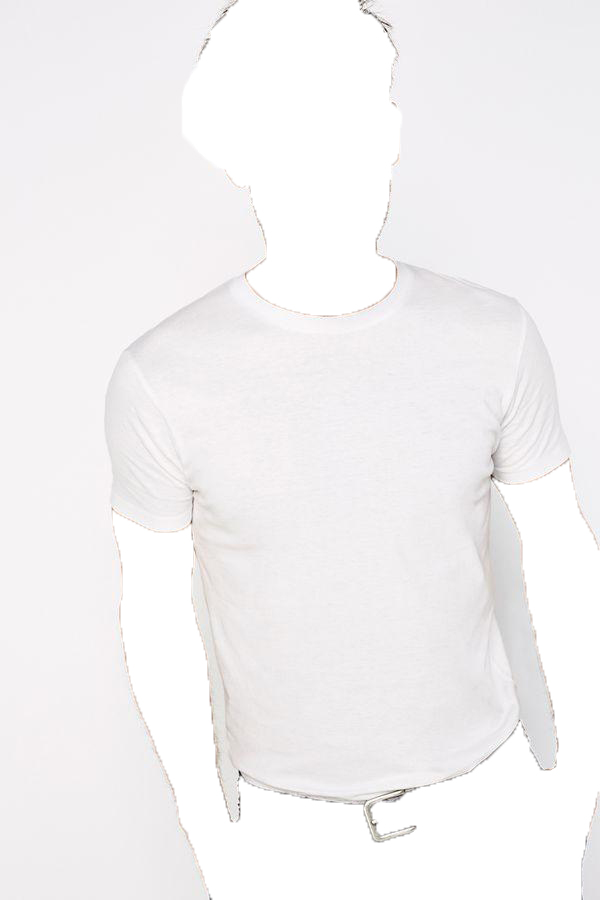teeshirt: (93, 256, 577, 815)
